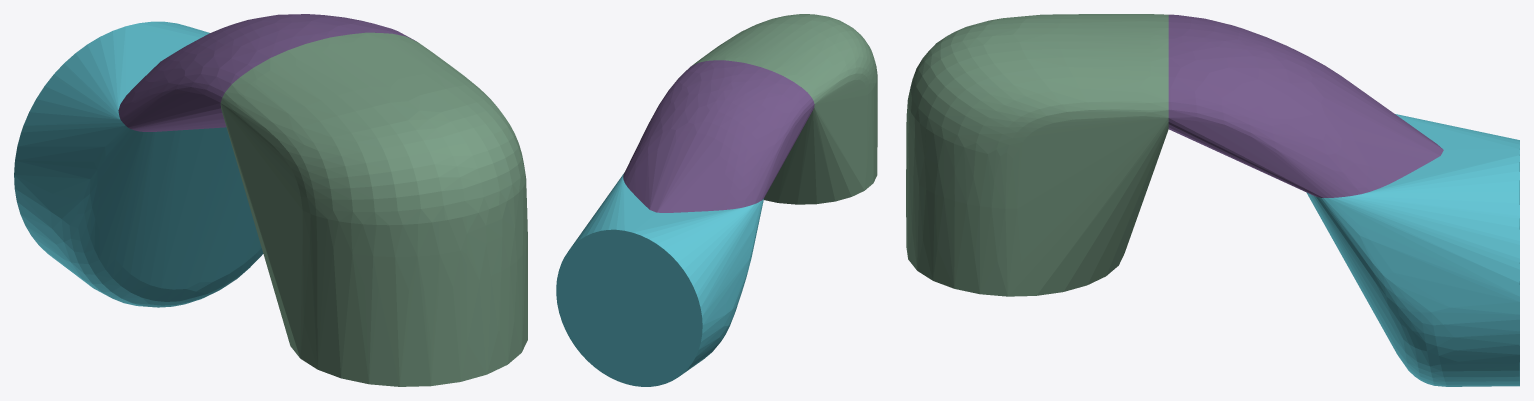
3 renders of one model, left to right at view 1: azimuth 30°, elevation 25°; view 2: azimuth 150°, elevation 25°; view 3: azimuth 270°, elevation 25°, orthographic. The views are drawn at different scales.
Parts seen in each view (by area): view 1: geometry_0, geometry_2, geometry_1; view 2: geometry_2, geometry_1, geometry_0; view 3: geometry_0, geometry_2, geometry_1.
Boxes of the visible parts, bbox=[...] form: geometry_0: bbox=[220, 32, 527, 386]; geometry_2: bbox=[14, 21, 263, 307]; geometry_1: bbox=[118, 14, 416, 131]; geometry_2: bbox=[556, 173, 763, 386]; geometry_1: bbox=[623, 60, 814, 212]; geometry_0: bbox=[692, 14, 877, 204]; geometry_0: bbox=[906, 14, 1168, 296]; geometry_2: bbox=[1306, 114, 1519, 386]; geometry_1: bbox=[1168, 14, 1443, 197].
Size of the model in its own units: 0.0849 by 0.129 by 0.2105.
